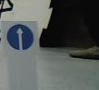forward: (7, 24, 34, 51)
